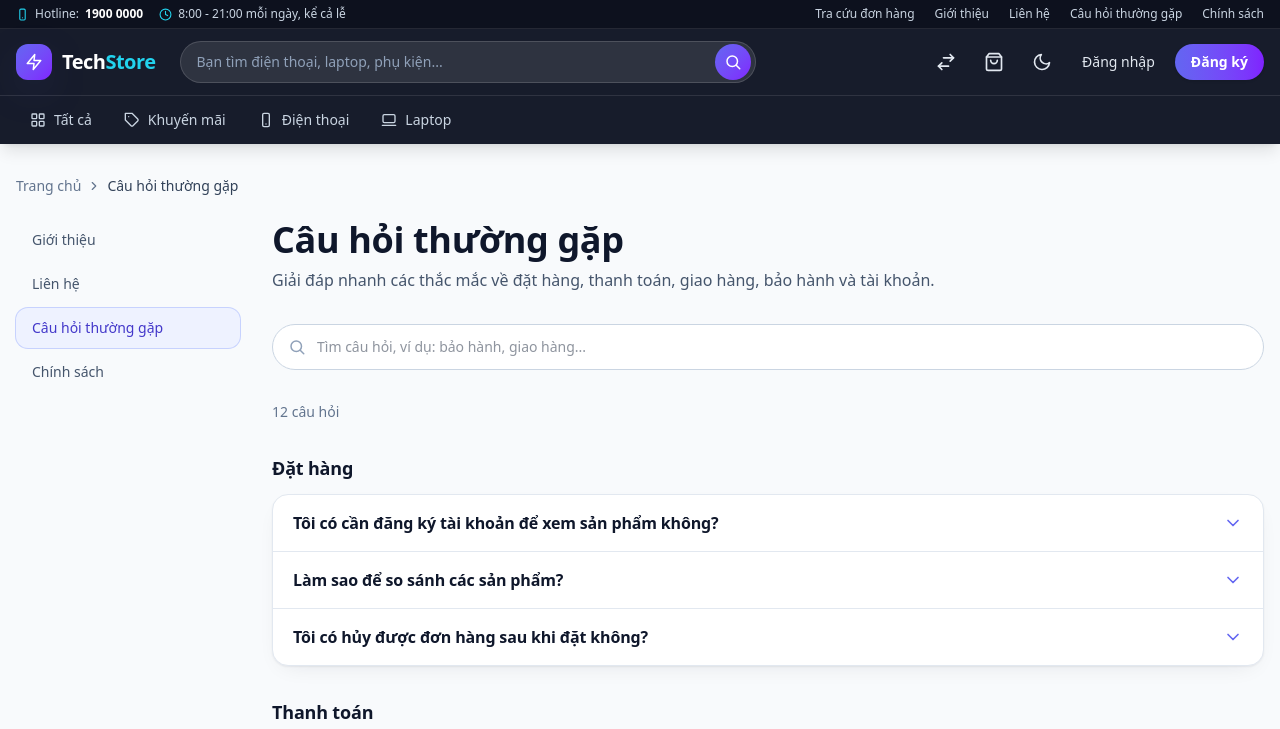
Câu hỏi thường gặp › tìm không phân biệt dấu và chữ hoa: "BAO HANH" ra câu hỏi về bảo hành
Type "BAO HANH" into the search field labelled "Tìm câu hỏi" at (768, 347), box [272, 324, 1264, 370]
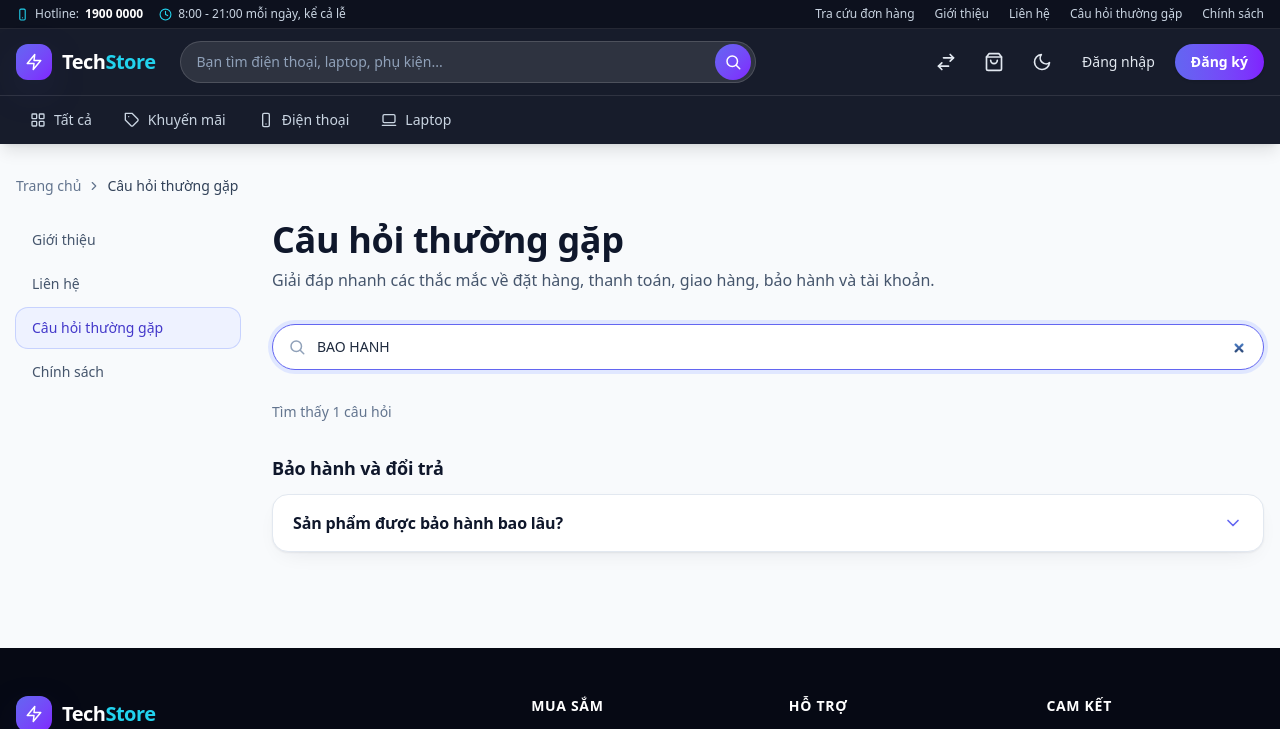
Check: the button "Sản phẩm được bảo hành bao lâu?" is shown, box [273, 495, 1263, 551]
Check: the message reads "Tìm thấy 1 câu hỏi", box [272, 402, 392, 421]
